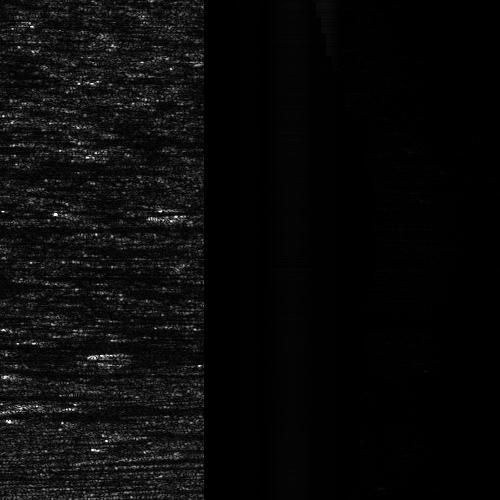shadow: (0, 222, 186, 231)
